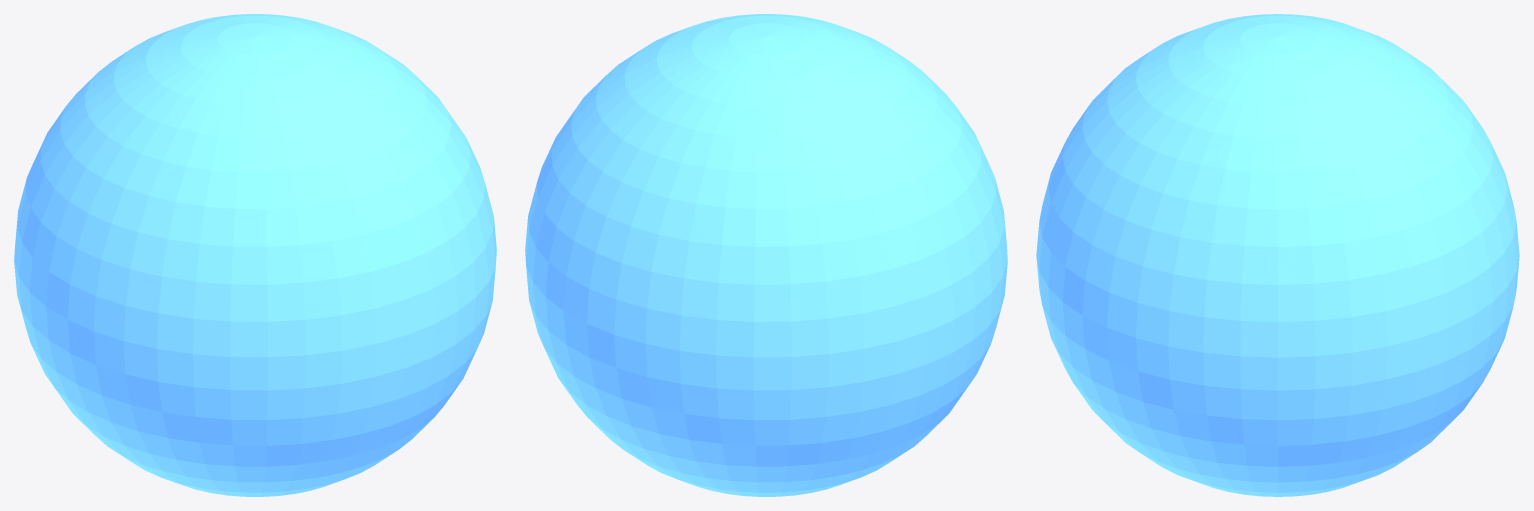
Rendered from warp_bubble_core.glb.
The picture shows the model from 3 angles, left to right: view 1: azimuth 30°, elevation 25°; view 2: azimuth 150°, elevation 25°; view 3: azimuth 270°, elevation 25°; orthographic projection.
Parts seen in each view (by area): view 1: warp_bubble_core; view 2: warp_bubble_core; view 3: warp_bubble_core.
Boxes of the visible parts, left/top/right/bottom form: warp_bubble_core: left=14, top=14, right=496, bottom=496; warp_bubble_core: left=525, top=14, right=1007, bottom=496; warp_bubble_core: left=1036, top=14, right=1519, bottom=496.
Bounding box in the file's own units: 4.72 × 4.72 × 4.72.
